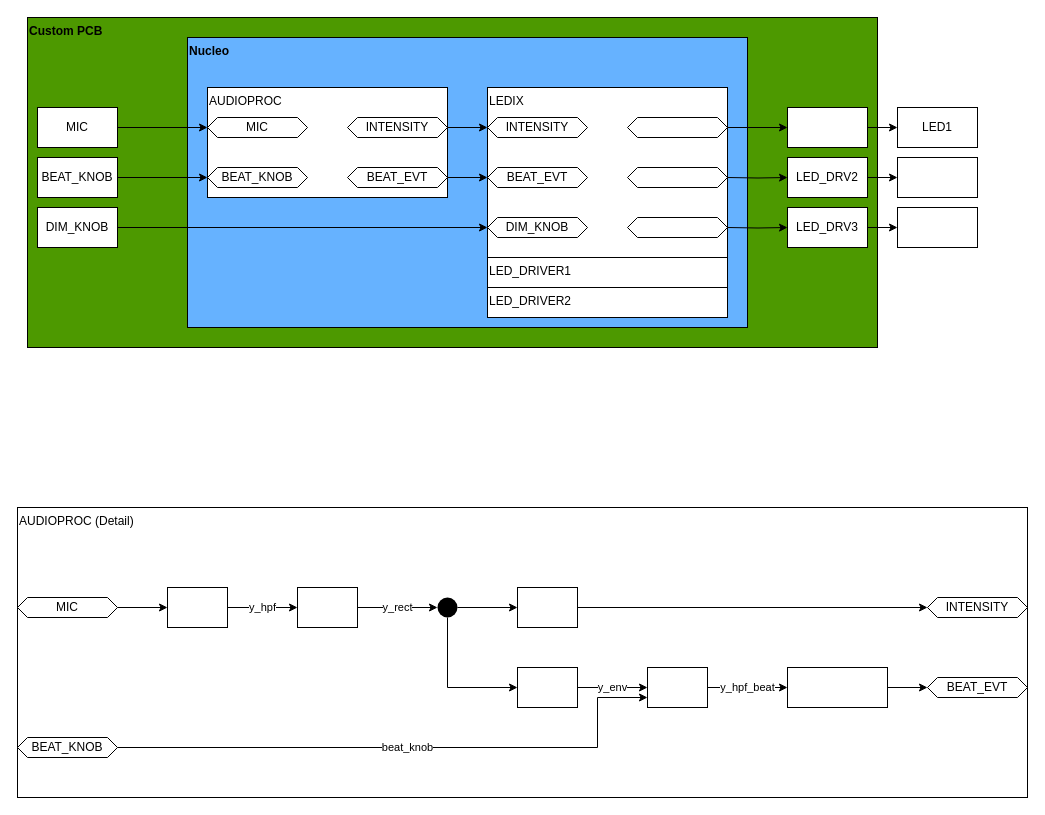
Some shapes in this 1045 by 815 pixel diagram are drawn without their labels. Here are the shapes that lost their labels. From the top down, the centre of each, then its label:
At point 677,127: "LED1_OUT".
At point 827,127: "LED_DRV1".
At point 677,177: "LED2_OUT".
At point 937,177: "LED2".
At point 677,227: "LED3_OUT".
At point 937,227: "LED3".
At point 197,607: "HPF Low cutoff".
At point 327,607: "RECTIFY".
At point 547,607: "LPF".
At point 547,687: "ENV".
At point 677,687: "HPF High cutoff".
At point 837,687: "BEAT_DETECT".
